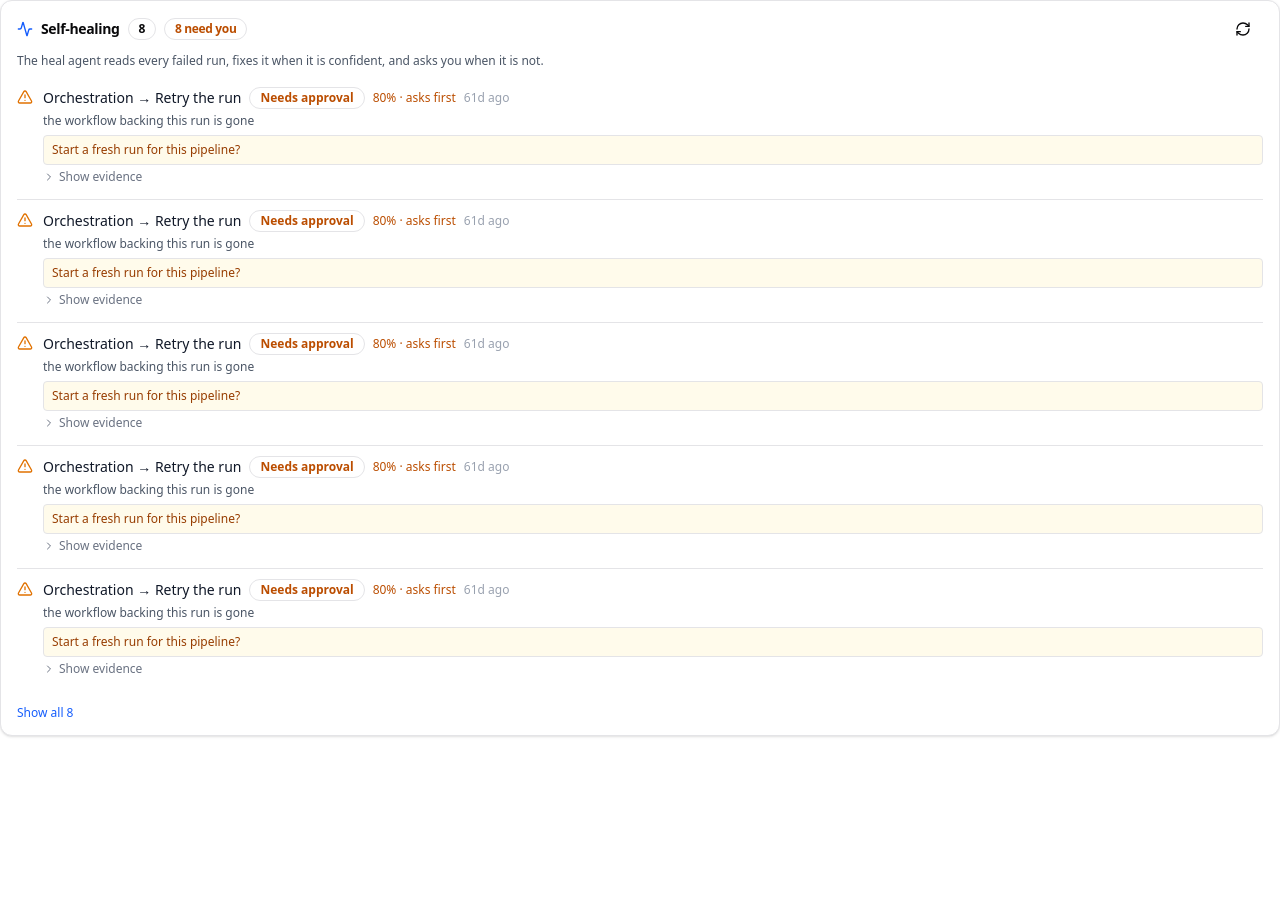
Scenario: SelfHealingPanel › collapses a long history behind a single toggle
The width and height of the screenshot is (1280, 900).
Expected: the text "Orchestration → Retry the run" is shown 5 times, x1=43 y1=88 x2=241 y2=108; x1=43 y1=211 x2=241 y2=231; x1=43 y1=334 x2=241 y2=354; x1=43 y1=457 x2=241 y2=477; x1=43 y1=580 x2=241 y2=600
Click the button "Show all 8" at (45, 713), box x1=17 y1=705 x2=74 y2=721
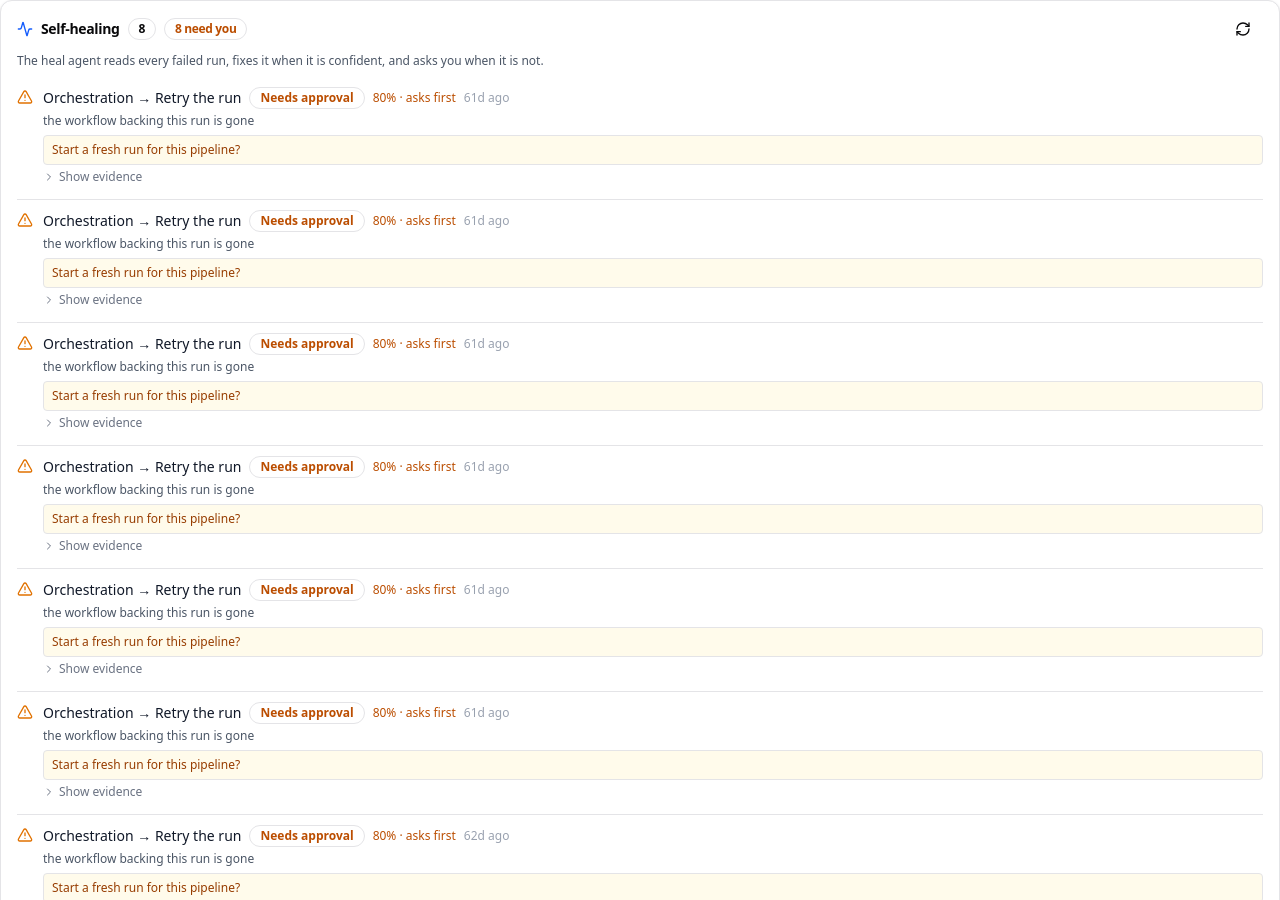
Expected: the text "Orchestration → Retry the run" is shown 8 times
